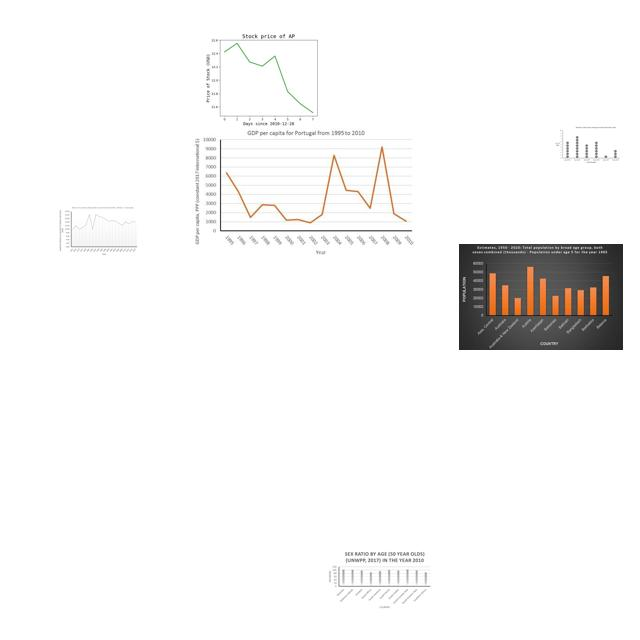Graph: (192, 128, 415, 256), (459, 244, 623, 350), (201, 28, 333, 127), (326, 549, 432, 610), (58, 206, 139, 256), (555, 126, 620, 164)
